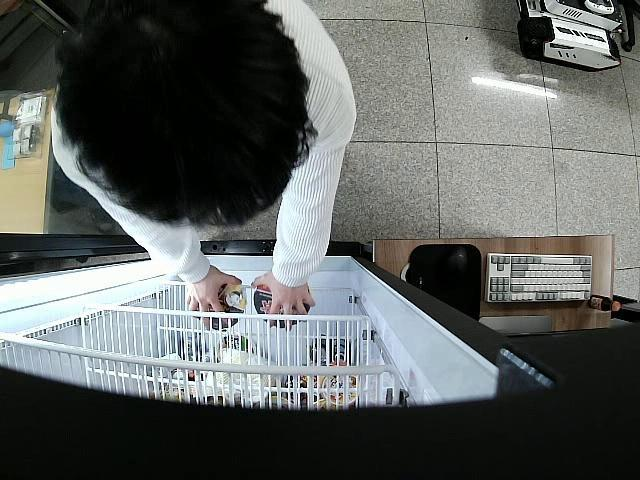07_buldak_L: (256, 283, 308, 327), (199, 280, 245, 326)
